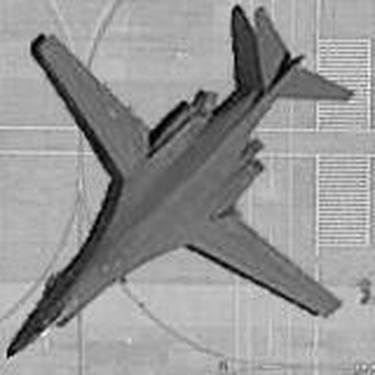airplane: (4, 5, 361, 369)
